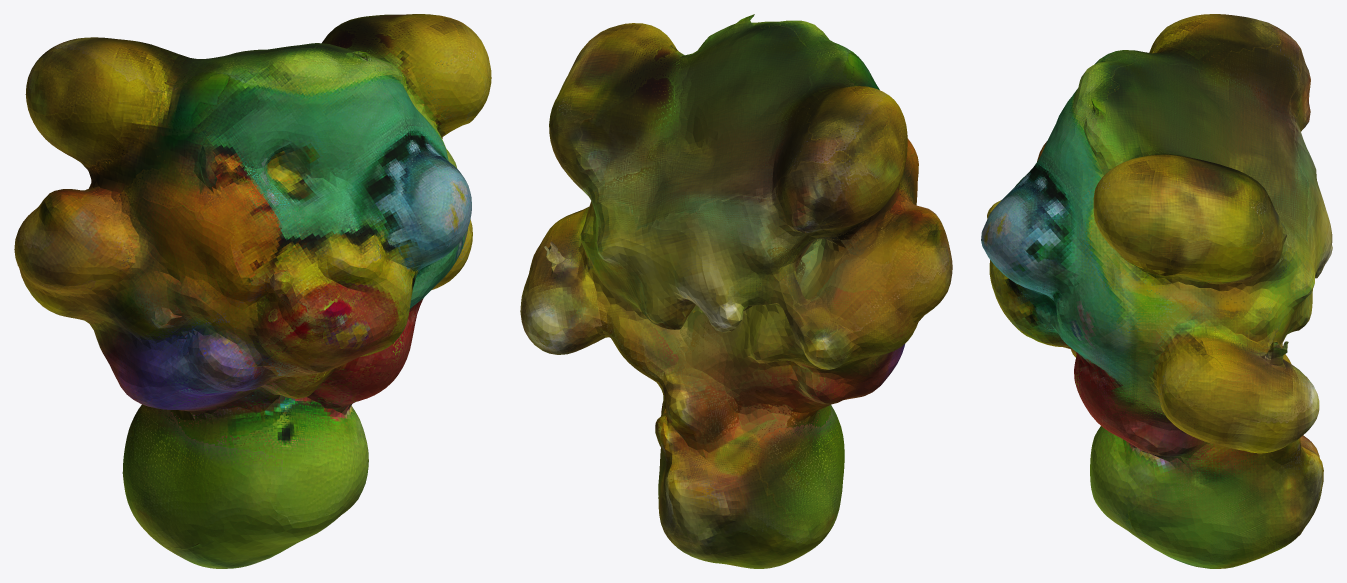
The model's file is turtle.glb.
3 renders of one model, left to right at view 1: azimuth 30°, elevation 25°; view 2: azimuth 150°, elevation 25°; view 3: azimuth 270°, elevation 25°, orthographic. The views are drawn at different scales.
Parts seen in each view (by area): view 1: world; view 2: world; view 3: world.
Boxes of the visible parts, left/top/right/bottom form: world: left=14, top=14, right=491, bottom=568; world: left=520, top=14, right=952, bottom=568; world: left=981, top=14, right=1332, bottom=568.
Size of the model in its own units: 0.8368 by 1 by 0.6443.
Materials: 1 (1 with a texture image).
